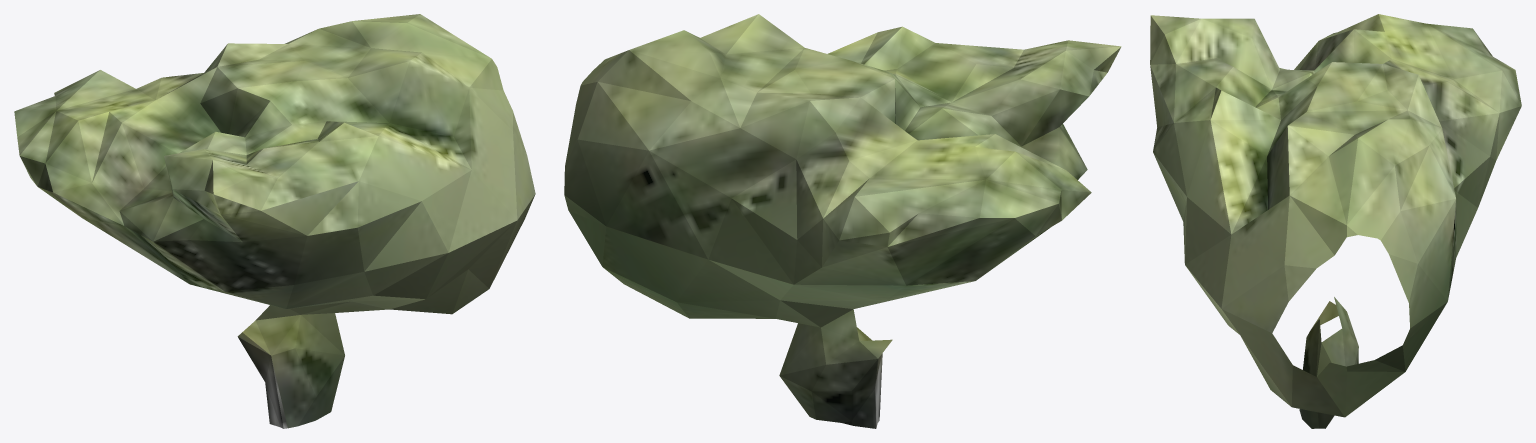
3 views of the same model, side by side, from view 1: azimuth 30°, elevation 25°; view 2: azimuth 150°, elevation 25°; view 3: azimuth 270°, elevation 25° (orthographic). The views are drawn at different scales.
Bounding box in the file's own units: 9.51 × 6.98 × 6.95.
1 material, 1 textured.
